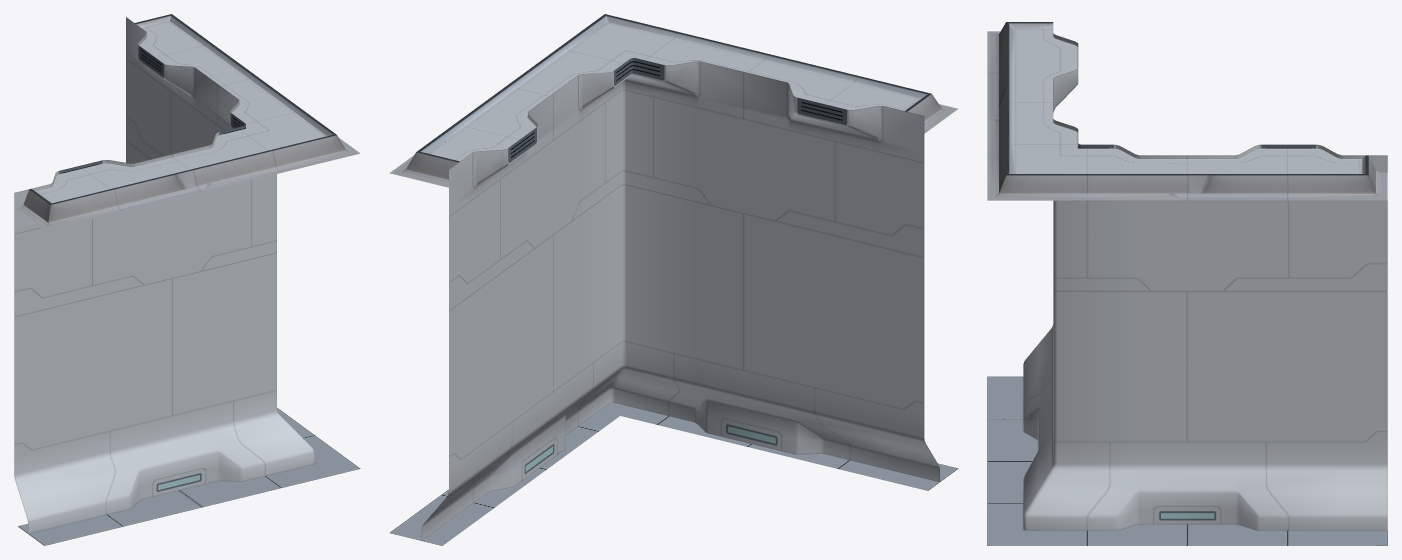
Rendered from Room_A_4m_corner_reverse.fbx.
The picture shows the model from 3 angles, left to right: view 1: azimuth 30°, elevation 25°; view 2: azimuth 150°, elevation 25°; view 3: azimuth 270°, elevation 25°; orthographic projection. The views are drawn at different scales.
Visible parts, largest first — view 1: Room_A_4m_corner_reverse; view 2: Room_A_4m_corner_reverse; view 3: Room_A_4m_corner_reverse.
Boxes of the visible parts, bbox=[...] form: Room_A_4m_corner_reverse: bbox=[14, 14, 360, 545]; Room_A_4m_corner_reverse: bbox=[389, 14, 958, 545]; Room_A_4m_corner_reverse: bbox=[987, 22, 1387, 545].
Bounding box in the file's own units: 400 × 400 × 400.
Materials: 3 (3 with a texture image).
